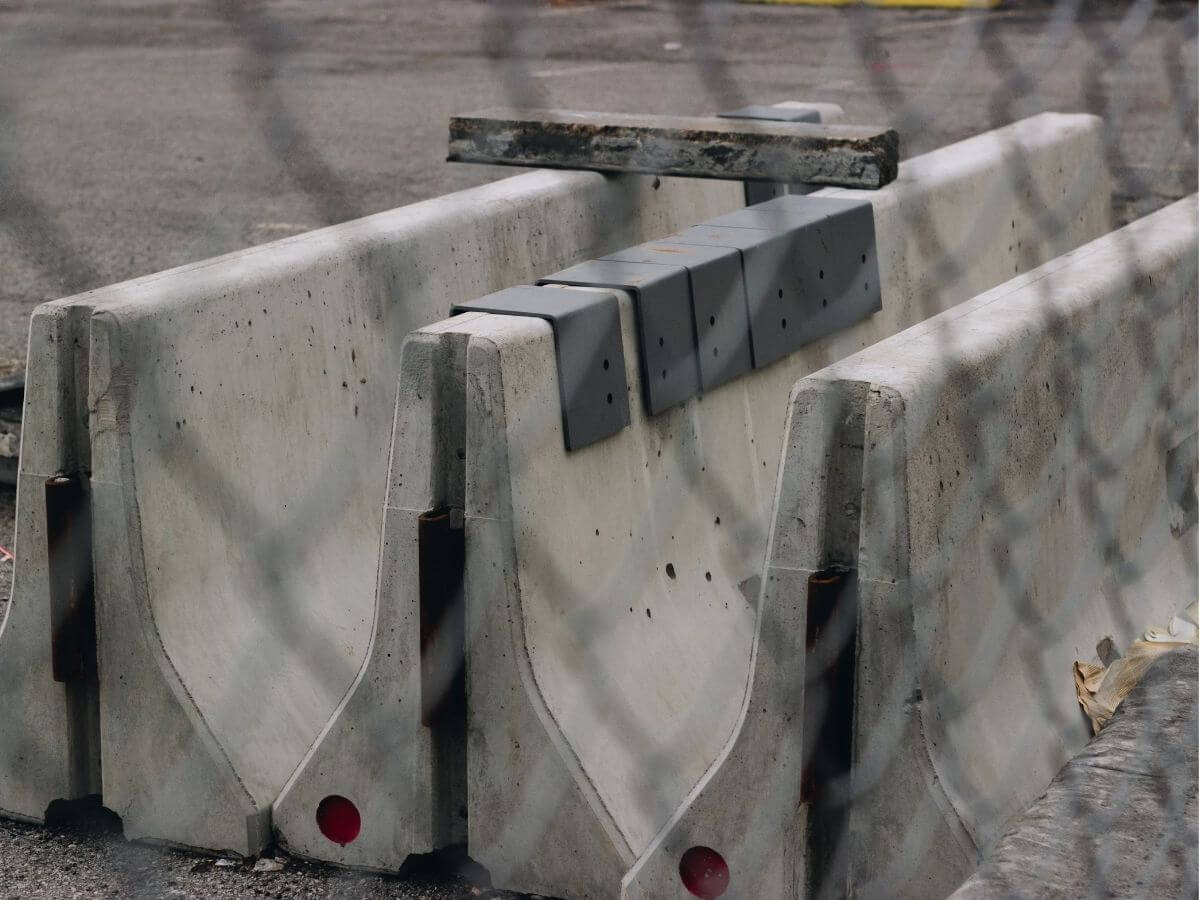Barrier: (23, 101, 1189, 867)
